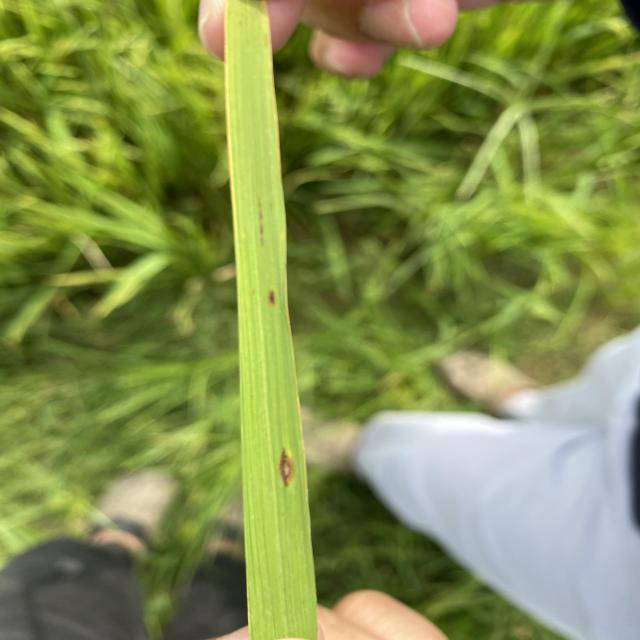Dom nau: (277, 446, 297, 487), (267, 288, 276, 309)
